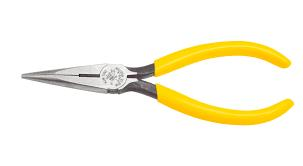pliers: (19, 39, 294, 125)
